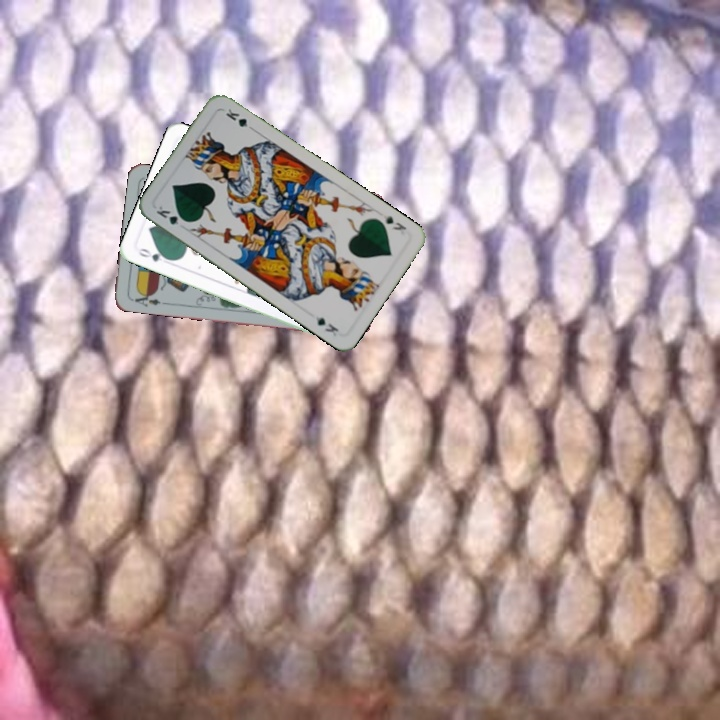EA: (128, 288, 163, 309)
GK: (152, 202, 190, 228), (379, 211, 409, 233)
GO: (134, 244, 174, 264)
